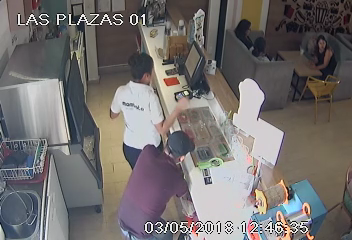ocupado: (232, 24, 349, 111)
